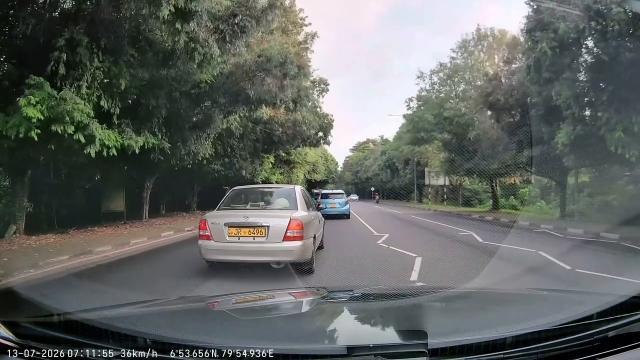number plate: (227, 223, 267, 244)
